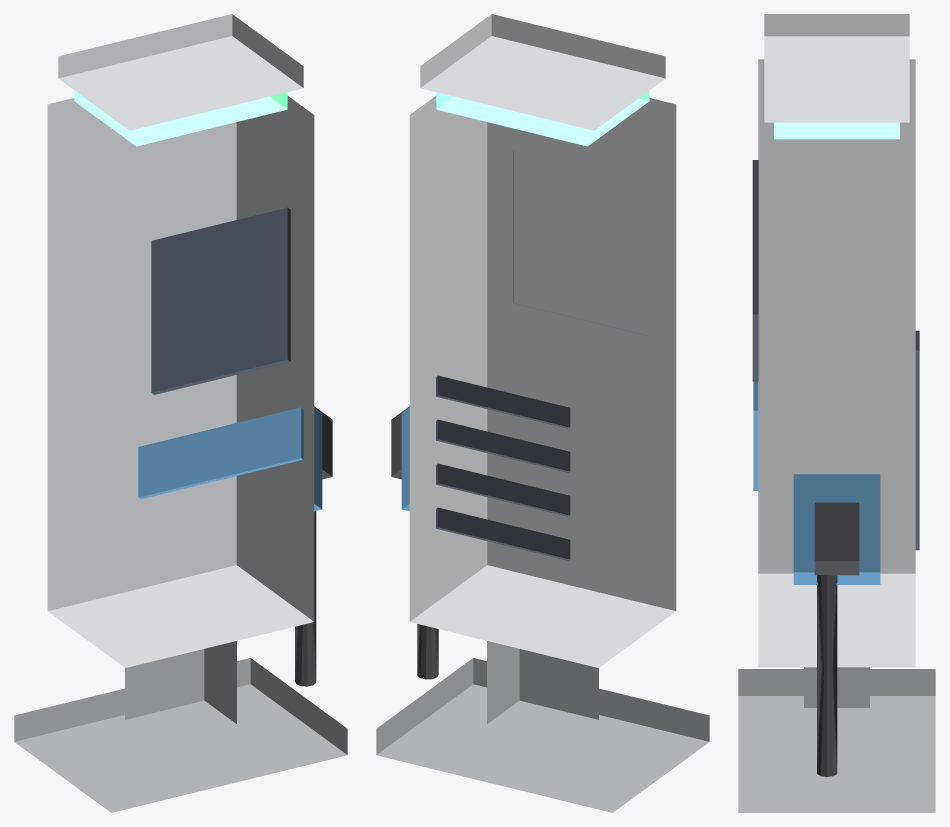
File: charger_dc.glb
3 views of the same model, side by side, from view 1: azimuth 30°, elevation 25°; view 2: azimuth 150°, elevation 25°; view 3: azimuth 270°, elevation 25° (orthographic).
Parts seen in each view (by area): view 1: dc_charger; view 2: dc_charger; view 3: dc_charger.
Boxes of the visible parts, <box> form: dc_charger: <box>14,14,347,812</box>; dc_charger: <box>376,14,709,812</box>; dc_charger: <box>738,14,935,812</box>.
Bounding box in the file's own units: 0.6163 × 1.56 × 0.4.
